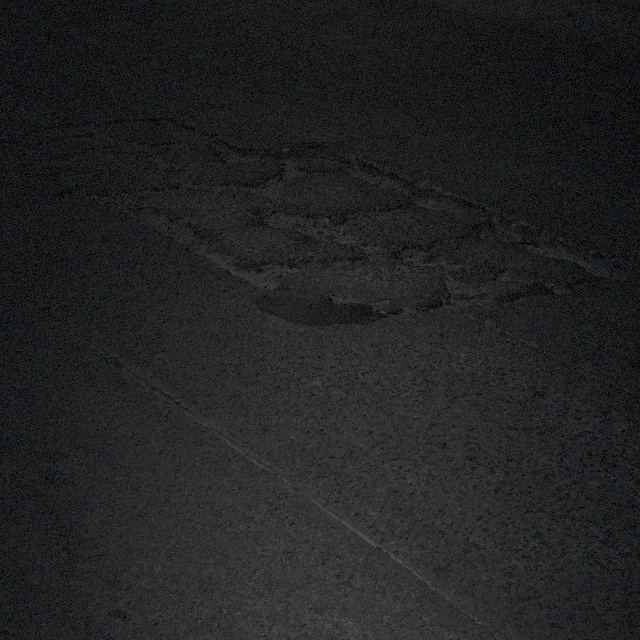pothole: (531, 221, 625, 280), (435, 252, 502, 310), (242, 260, 303, 294), (252, 162, 302, 202), (49, 167, 92, 199), (210, 137, 249, 168)
